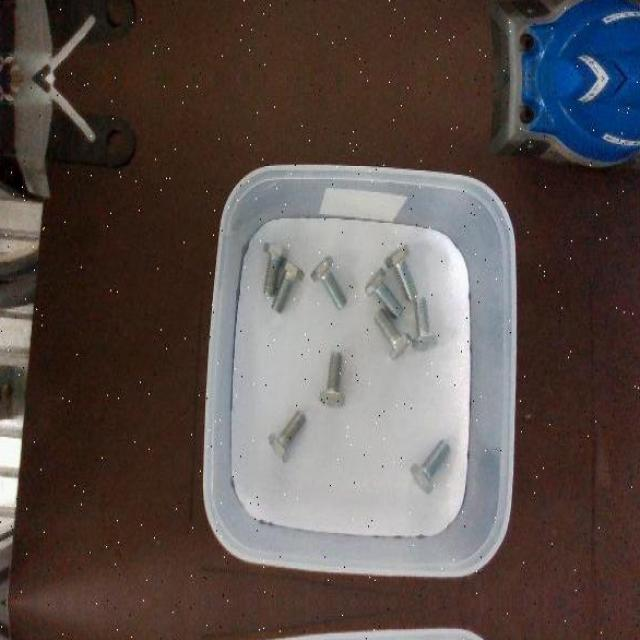screw: (411, 437, 451, 492), (269, 408, 307, 462), (374, 307, 412, 361), (311, 254, 348, 308), (270, 258, 304, 314), (384, 244, 418, 300), (365, 268, 403, 317), (318, 350, 345, 408), (412, 296, 438, 351), (262, 244, 287, 296)
